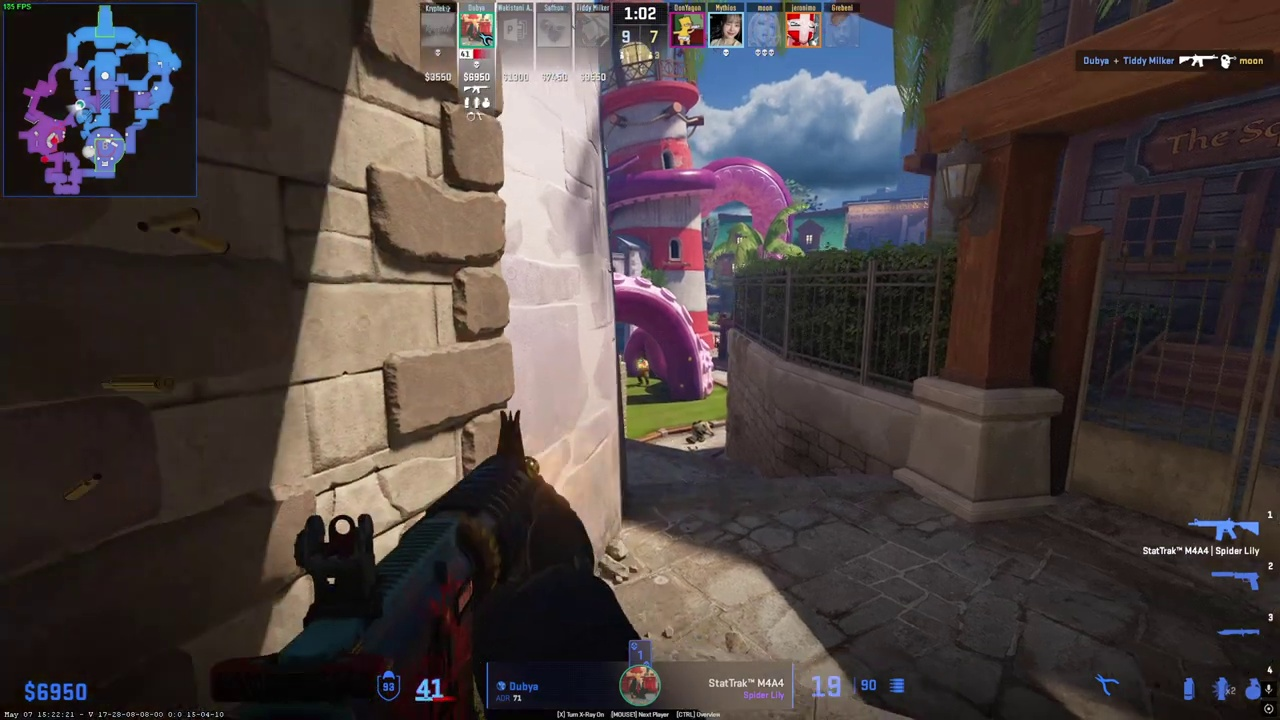Terrorist: (637, 356, 649, 385)
